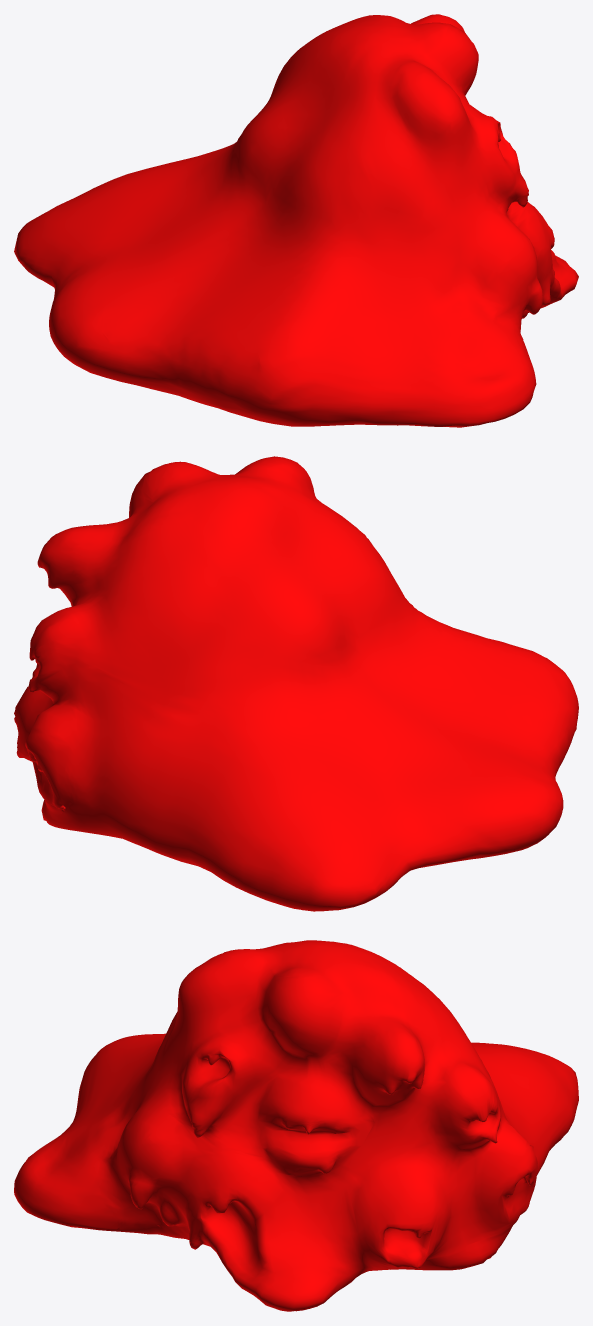
Rendered from Slime28.fbx.
3 renders of one model, top to bottom at view 1: azimuth 30°, elevation 25°; view 2: azimuth 150°, elevation 25°; view 3: azimuth 270°, elevation 25°, orthographic. The views are drawn at different scales.
Visible parts, largest first — view 1: BSurfaceMesh; view 2: BSurfaceMesh; view 3: BSurfaceMesh.
Boxes of the visible parts, <box> form: BSurfaceMesh: <box>14,14,578,427</box>; BSurfaceMesh: <box>14,456,578,911</box>; BSurfaceMesh: <box>14,940,578,1311</box>.
Size of the model in its own units: 4463 by 2444 by 4473.
